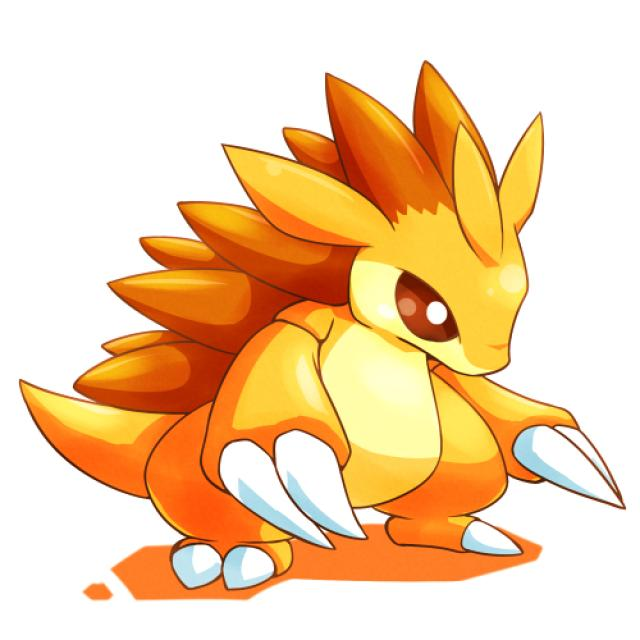Sandslash: (71, 98, 558, 572)
